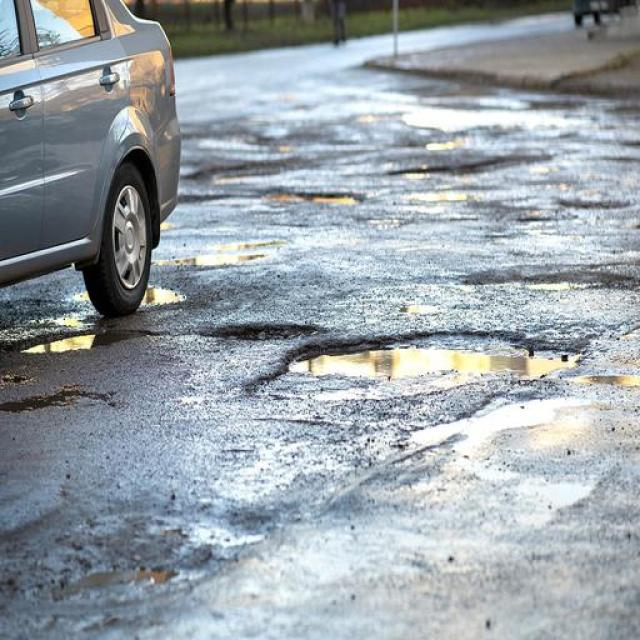puddle: (313, 339, 535, 379)
